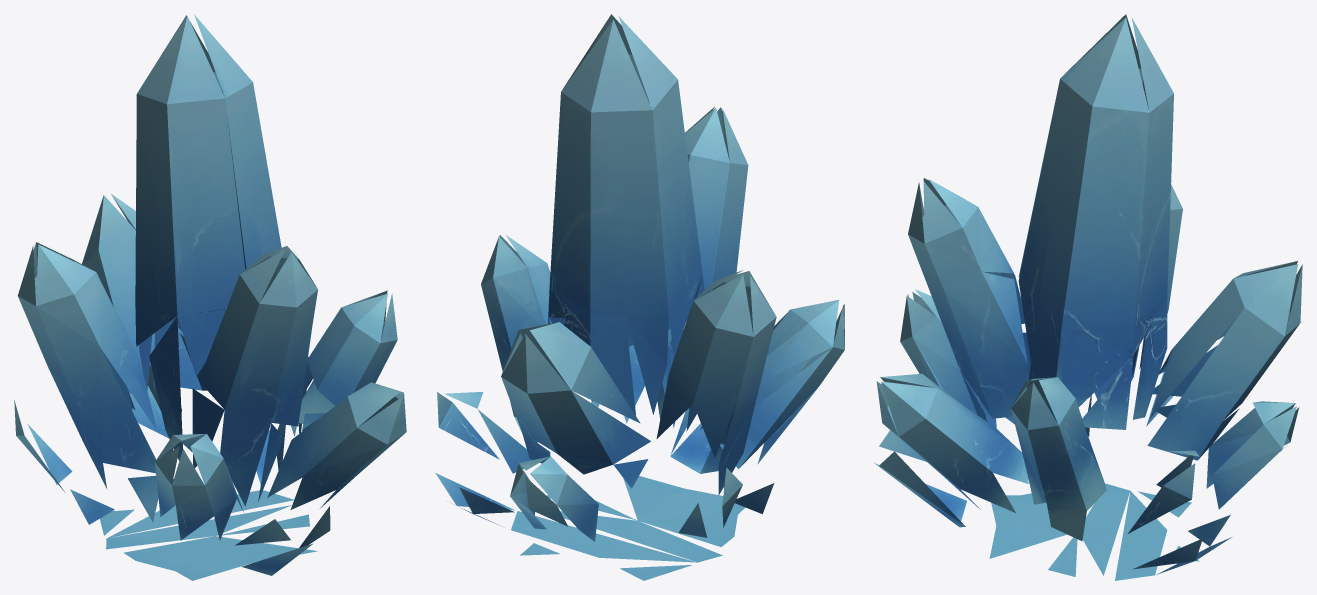
File: minerals_LOD2.glb
3 views of the same model, side by side, from view 1: azimuth 30°, elevation 25°; view 2: azimuth 150°, elevation 25°; view 3: azimuth 270°, elevation 25° (orthographic). The views are drawn at different scales.
Visible parts, largest first — view 1: minerals_LOD2; view 2: minerals_LOD2; view 3: minerals_LOD2.
Boxes of the visible parts, left/top/right/bottom form: minerals_LOD2: left=14, top=14, right=406, bottom=580; minerals_LOD2: left=435, top=14, right=844, bottom=580; minerals_LOD2: left=874, top=14, right=1302, bottom=580.
Size of the model in its own units: 0.6535 by 0.9999 by 0.7514.
Materials: 1 (1 with a texture image).
